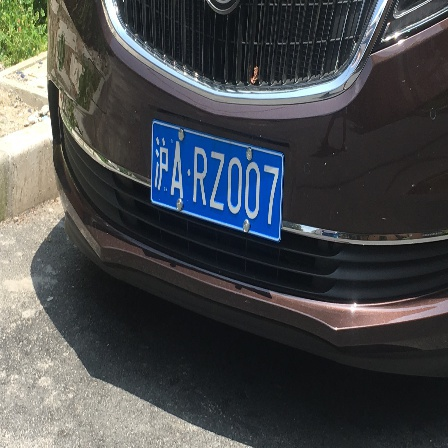plate: (149, 116, 285, 246)
